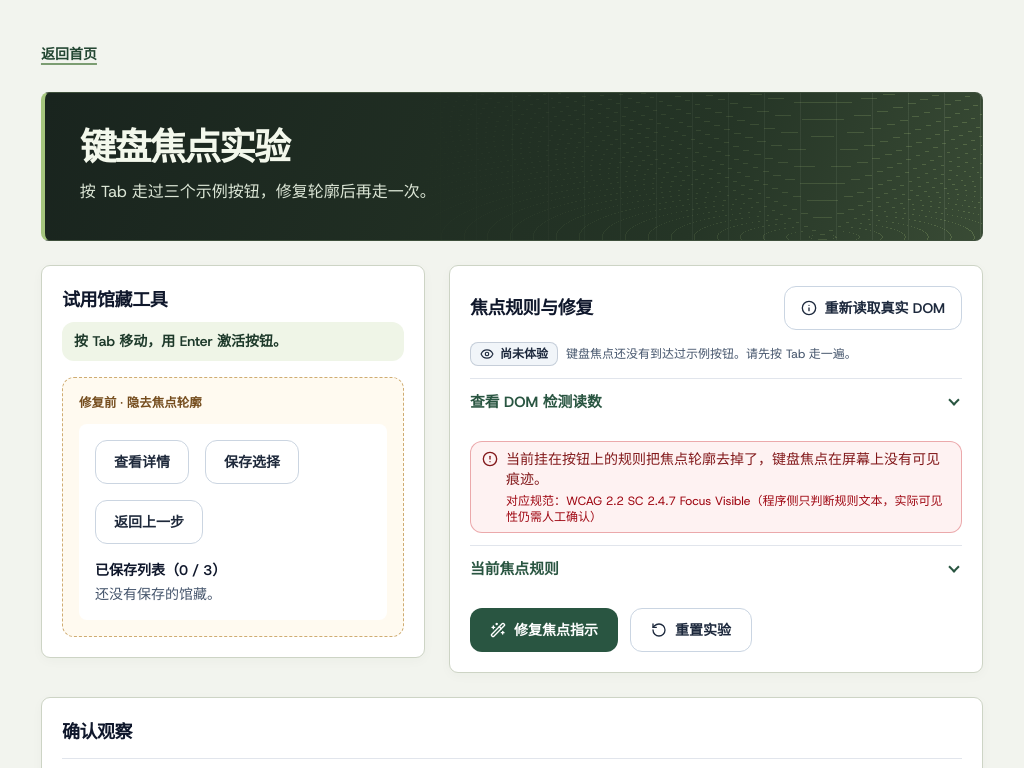
Test: KeyboardFocusLabPage · 初始状态（要求 #1 #2 #3 #10） › 全页只有一个 aria-live 播报区：没有反馈时 0 个，出现反馈时仍只有 1 个
This screenshot has width=1024, height=768.
What coordinates should you click on to do the following:
click the button "重新读取真实 DOM"
I would click on:
 (873, 308)
Its box is top-left (784, 286), bottom-right (962, 330).
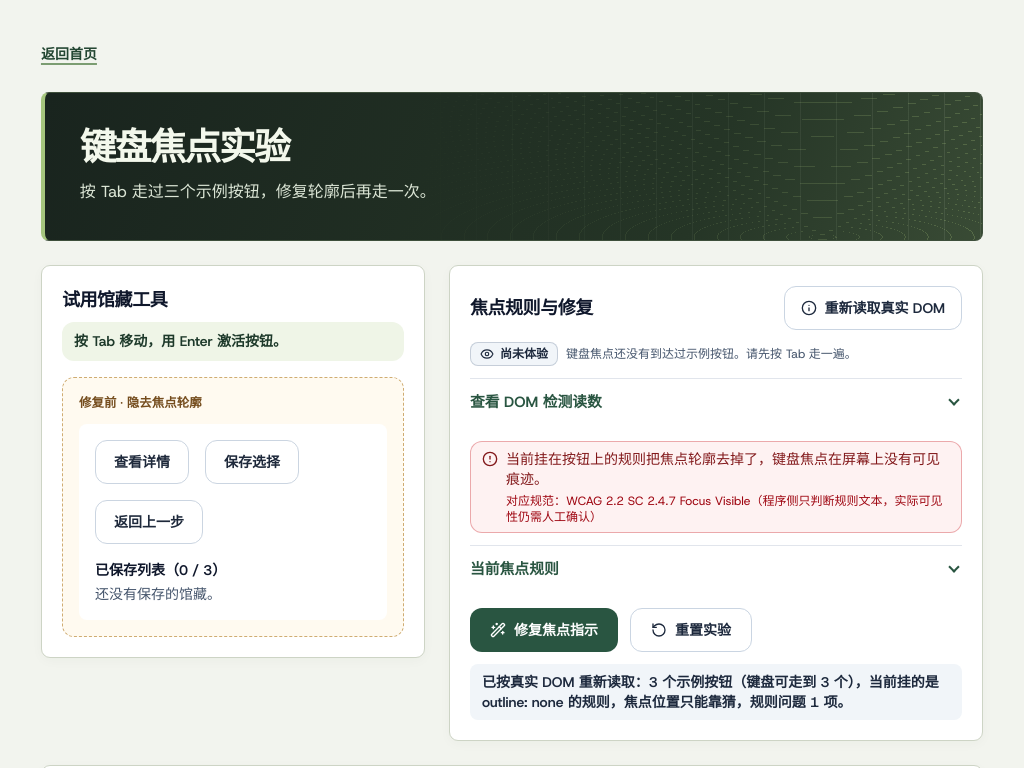
Expected: the number of messages is 1, top-left (470, 664), bottom-right (962, 720)
